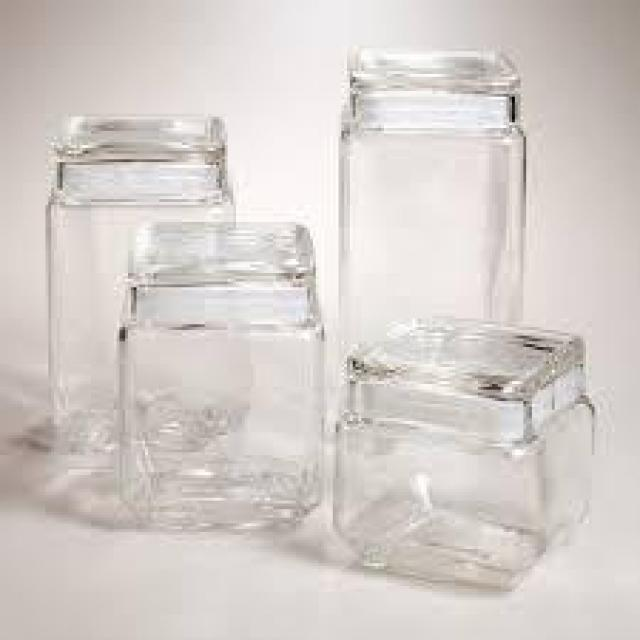non-organic waste: (326, 317, 598, 596), (111, 216, 330, 532)
